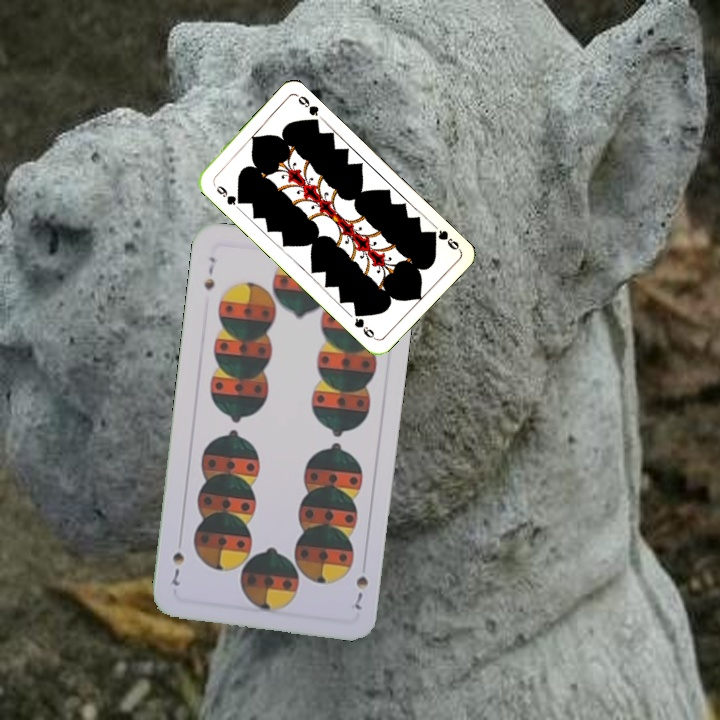G9: (425, 225, 462, 253), (212, 181, 245, 208)
S7: (350, 571, 371, 613), (200, 253, 218, 293)
